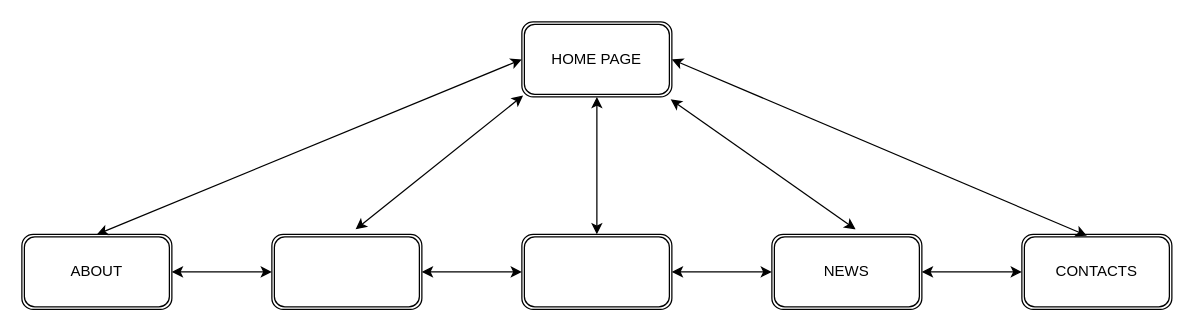
Some shapes in this 1194 by 331 pixel diagram are drawn without their labels. Each missing label, with the centre of its shape:
GUIDELINES: the point at 346,271
SIGN-UP: the point at 596,271
